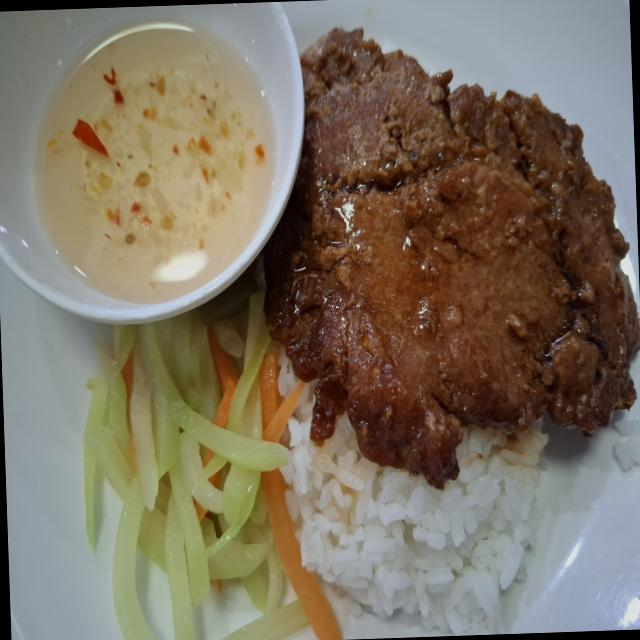com: (283, 391, 547, 633)
nuoc mam: (35, 30, 276, 303)
rau: (84, 291, 341, 640)
suon mieng: (265, 29, 640, 487)
